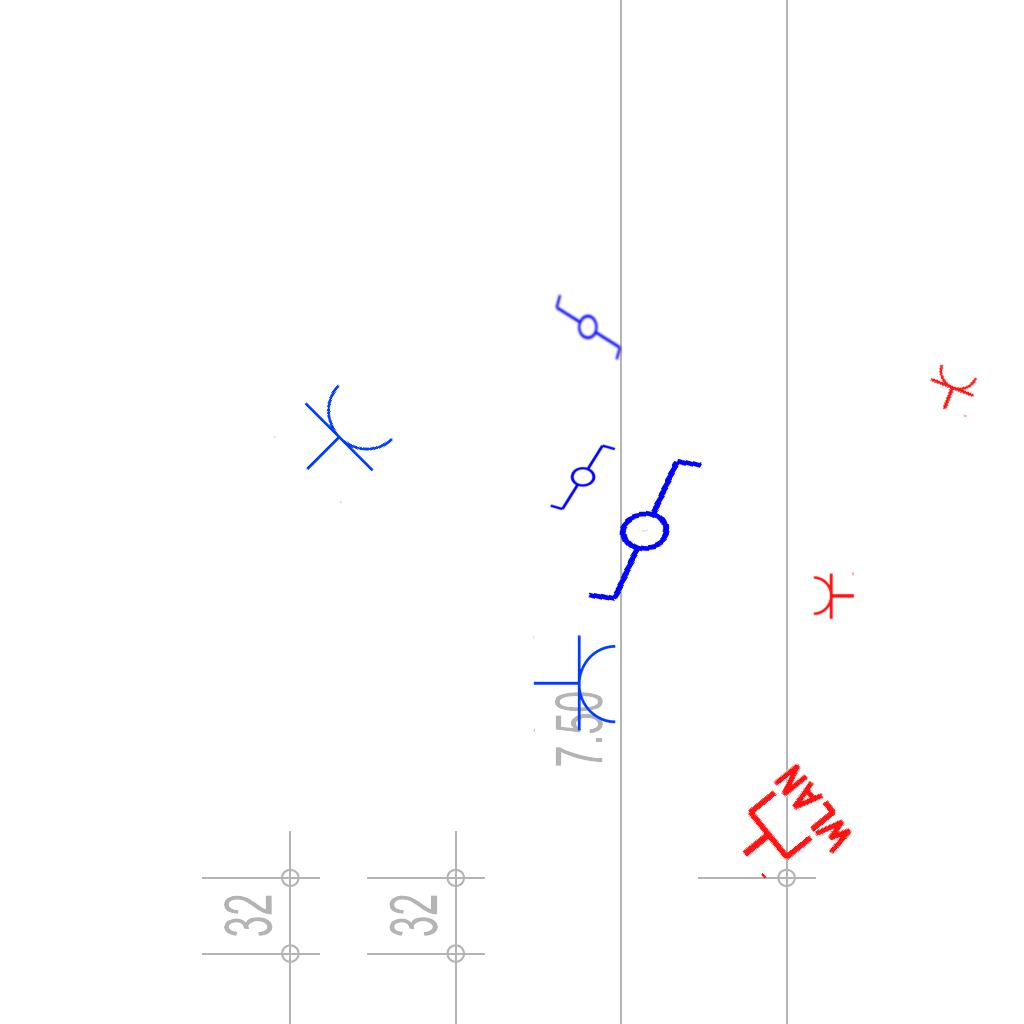Schukosteckdose_einfach: (271, 373, 405, 506), (533, 634, 620, 734), (921, 360, 984, 420), (812, 570, 855, 620)
WLAN: (713, 757, 862, 905)
Wechselschalter: (548, 447, 725, 613), (553, 284, 625, 362), (548, 442, 626, 514)
